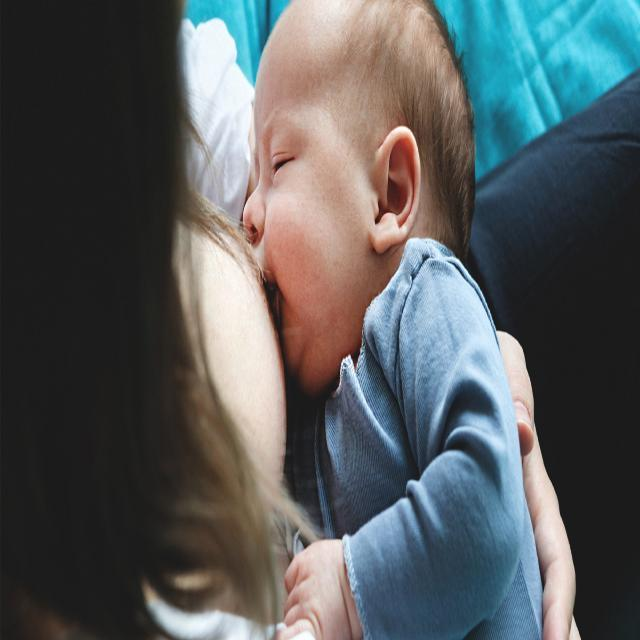non-dog: (0, 2, 328, 631), (244, 1, 546, 640)
